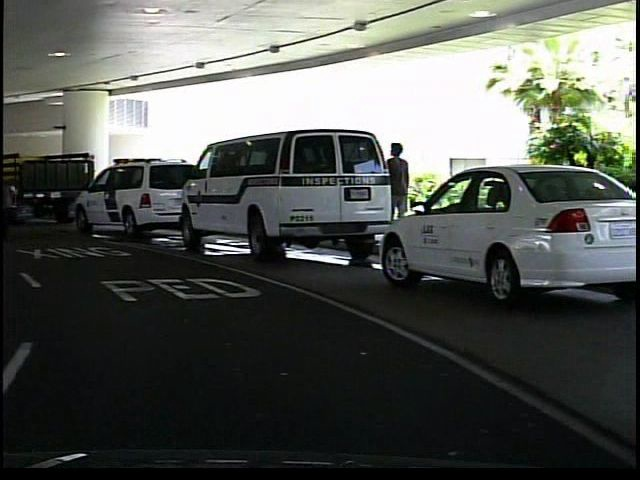person: (376, 138, 413, 249)
